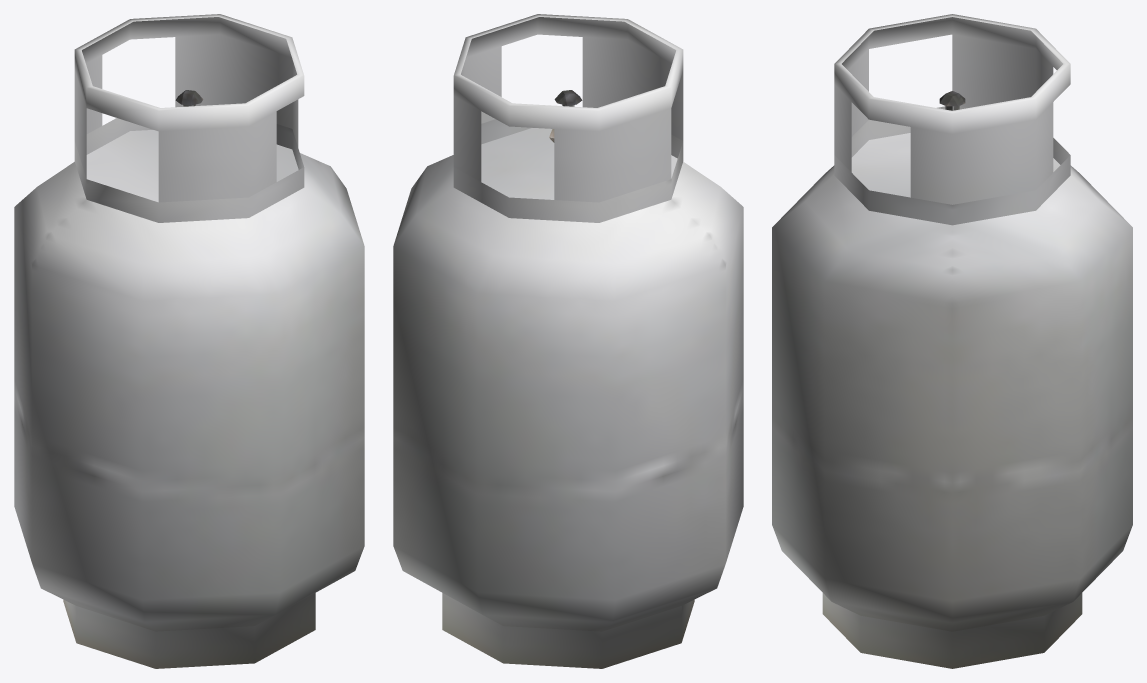
The model's file is propanetanksmall.glb.
The picture shows the model from 3 angles, left to right: view 1: azimuth 30°, elevation 25°; view 2: azimuth 150°, elevation 25°; view 3: azimuth 270°, elevation 25°; orthographic projection.
Parts seen in each view (by area): view 1: PropaneTankSmall; view 2: PropaneTankSmall; view 3: PropaneTankSmall.
Boxes of the visible parts, x1,y1,x2,y2 form: PropaneTankSmall: (14, 14, 364, 668); PropaneTankSmall: (393, 14, 743, 668); PropaneTankSmall: (772, 14, 1132, 668).
Size of the model in its own units: 0.44 by 0.74 by 0.44.
Materials: 1 (1 with a texture image).
